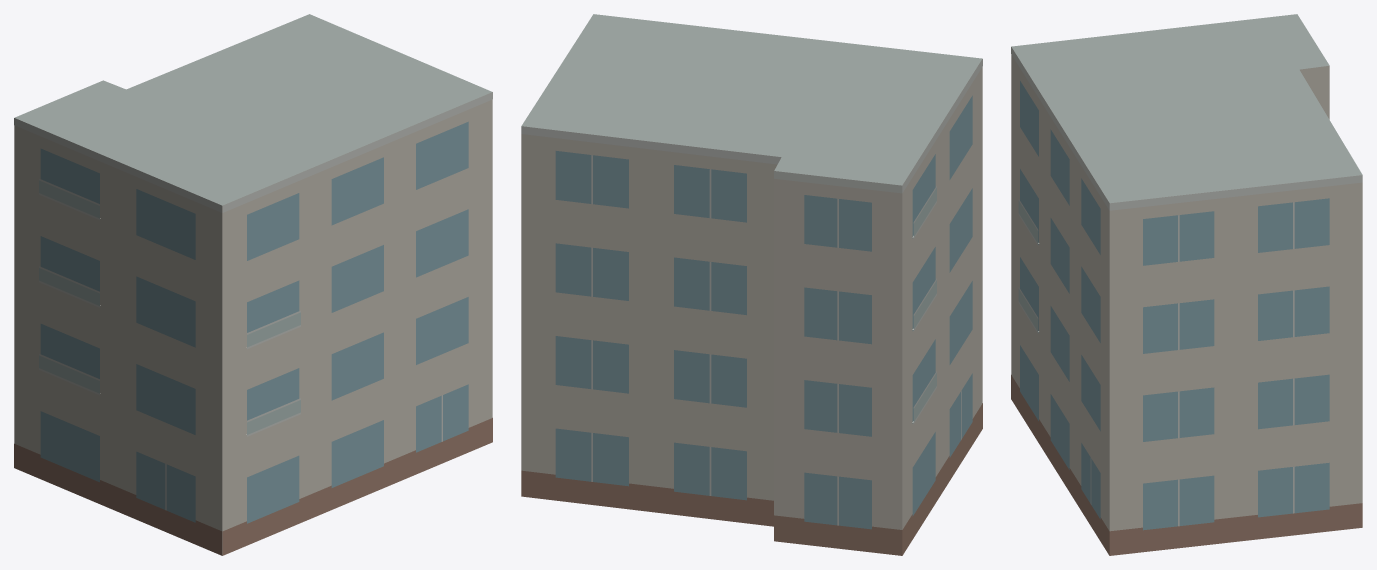
The model's file is survey-upis-33046719.glb.
3 views of the same model, side by side, from view 1: azimuth 30°, elevation 25°; view 2: azimuth 150°, elevation 25°; view 3: azimuth 270°, elevation 25° (orthographic). The views are drawn at different scales.
Visible parts, largest first — view 1: survey-upis-33046719.tmp; view 2: survey-upis-33046719.tmp; view 3: survey-upis-33046719.tmp.
Part boxes in pixels (x1,y1,x2,y2): survey-upis-33046719.tmp: [14, 14, 492, 555]; survey-upis-33046719.tmp: [521, 14, 982, 555]; survey-upis-33046719.tmp: [1011, 14, 1362, 555].
Size of the model in its own units: 13.25 by 11.5 by 10.4.
